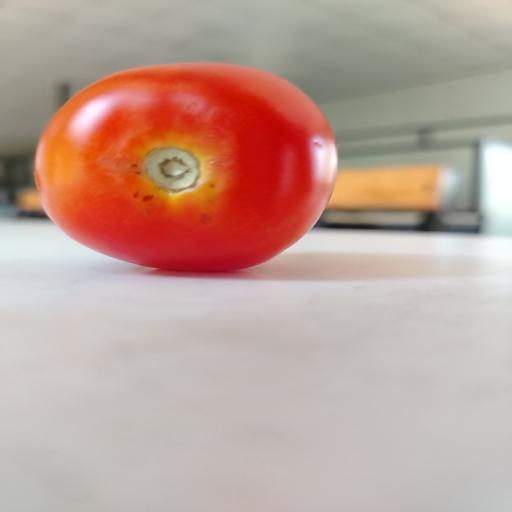ripe: (35, 64, 337, 271)
